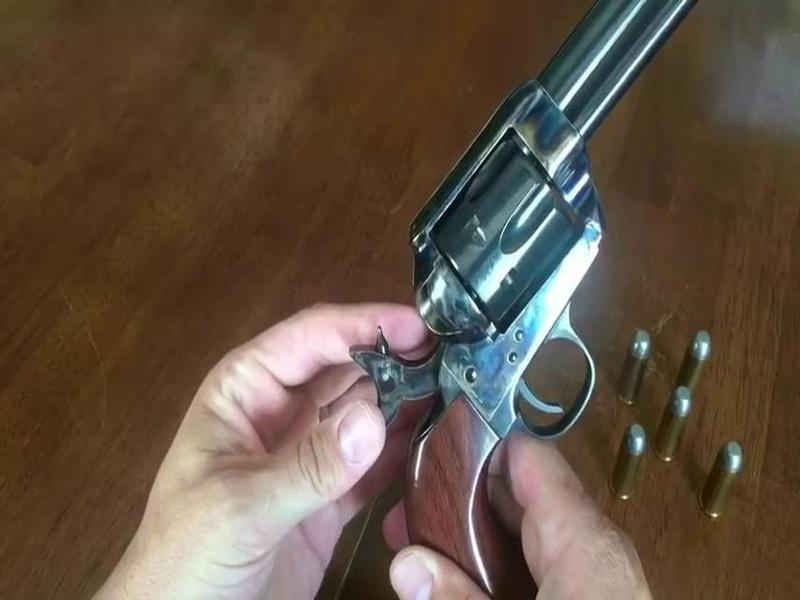Revolver: (380, 16, 686, 587)
